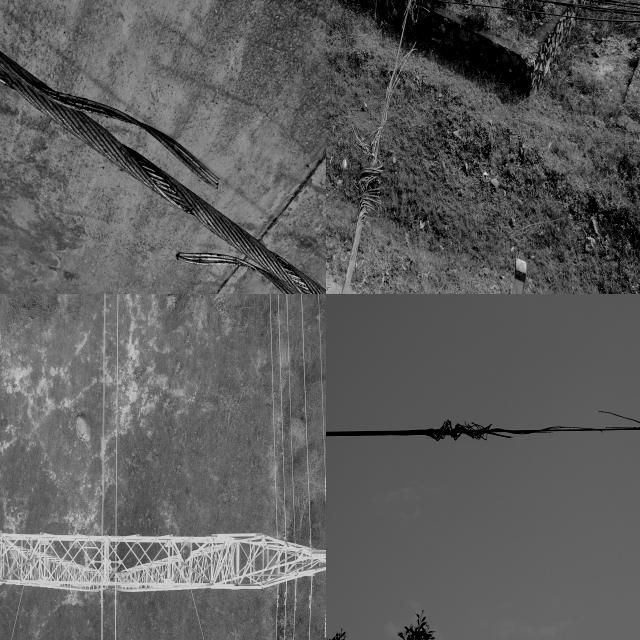杆塔: (0, 524, 326, 598)
正常电缆: (268, 294, 280, 524), (97, 294, 109, 523), (285, 294, 296, 522), (300, 294, 311, 521), (277, 294, 287, 522), (317, 294, 326, 523), (114, 294, 121, 522), (191, 604, 209, 640)
电缆破损: (29, 0, 326, 202), (331, 0, 443, 236), (427, 392, 640, 459)
